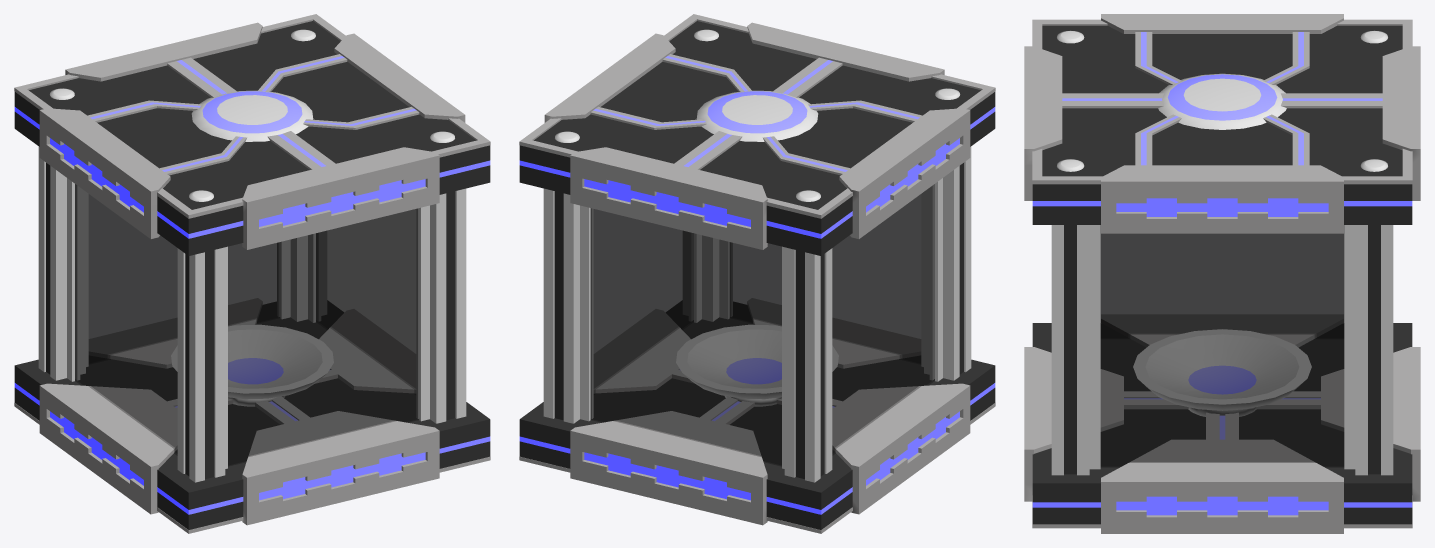
The model's file is share box.fbx.
The picture shows the model from 3 angles, left to right: view 1: azimuth 30°, elevation 25°; view 2: azimuth 150°, elevation 25°; view 3: azimuth 270°, elevation 25°; orthographic projection. The views are drawn at different scales.
Parts seen in each view (by area): view 1: main_ita, glass1, glass4, kazari44, glass3, glass2, kazari1, kazari43, hashira1, hashira2, hashira4, kazari42 (+15 smaller); view 2: main_ita, glass3, glass4, kazari46, glass1, glass2, kazari41, kazari43, hashira4, hashira3, hashira1, kazari42 (+15 smaller); view 3: main_ita, glass2, glass4, kazari45, kazari40, hashira2, hashira3, sara2, kazari24, kazari44, kazari46, kazari43 (+11 smaller).
Boxes of the visible parts, bbox=[...] form: main_ita: bbox=[14, 21, 490, 529]; glass1: bbox=[228, 208, 419, 466]; glass4: bbox=[75, 184, 177, 455]; kazari44: bbox=[242, 396, 439, 525]; glass3: bbox=[89, 194, 279, 363]; glass2: bbox=[316, 209, 415, 388]; kazari1: bbox=[242, 147, 439, 249]; kazari43: bbox=[39, 383, 233, 514]; hashira1: bbox=[177, 246, 227, 482]; hashira2: bbox=[416, 188, 466, 423]; hashira4: bbox=[38, 146, 88, 381]; kazari42: bbox=[39, 108, 170, 238]; main_ita: bbox=[519, 21, 995, 529]; glass3: bbox=[590, 208, 781, 466]; glass4: bbox=[832, 184, 934, 455]; kazari46: bbox=[570, 396, 767, 525]; glass1: bbox=[730, 194, 920, 363]; glass2: bbox=[594, 209, 693, 388]; kazari41: bbox=[570, 147, 767, 249]; kazari43: bbox=[776, 383, 970, 514]; hashira4: bbox=[782, 246, 832, 482]; hashira3: bbox=[543, 188, 593, 423]; hashira1: bbox=[921, 146, 971, 381]; kazari42: bbox=[839, 108, 970, 238]; main_ita: bbox=[1032, 25, 1412, 524]; glass2: bbox=[1100, 225, 1344, 467]; glass4: bbox=[1101, 234, 1343, 338]; kazari45: bbox=[1101, 412, 1343, 533]; kazari40: bbox=[1101, 165, 1343, 233]; hashira2: bbox=[1051, 225, 1100, 475]; hashira3: bbox=[1344, 225, 1393, 475]; sara2: bbox=[1133, 329, 1311, 416]; kazari24: bbox=[1158, 73, 1286, 129]; kazari44: bbox=[1024, 347, 1188, 501]; kazari46: bbox=[1256, 347, 1420, 501]; kazari43: bbox=[1101, 314, 1343, 347].
Size of the model in its own units: 10.43 by 10.5 by 10.43.
